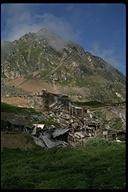grass: (9, 154, 126, 188)
mountain: (4, 21, 124, 149)
sky: (71, 5, 123, 34)
